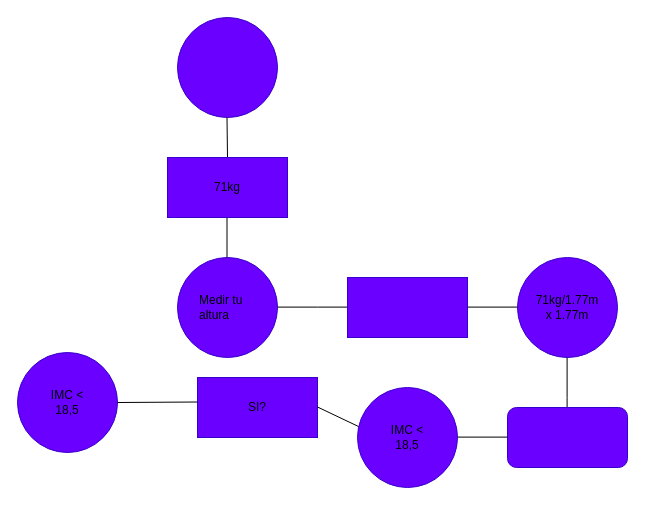
Image size: 645x505. Some labels were removed from this diagram. The shapes that lost their labels are listed below. From the top down, each one's centre as x and y in pixels, then its label:
point 227,67: Calcular mi peso
point 407,307: 1.77m
point 567,437: 22,68 IMC
